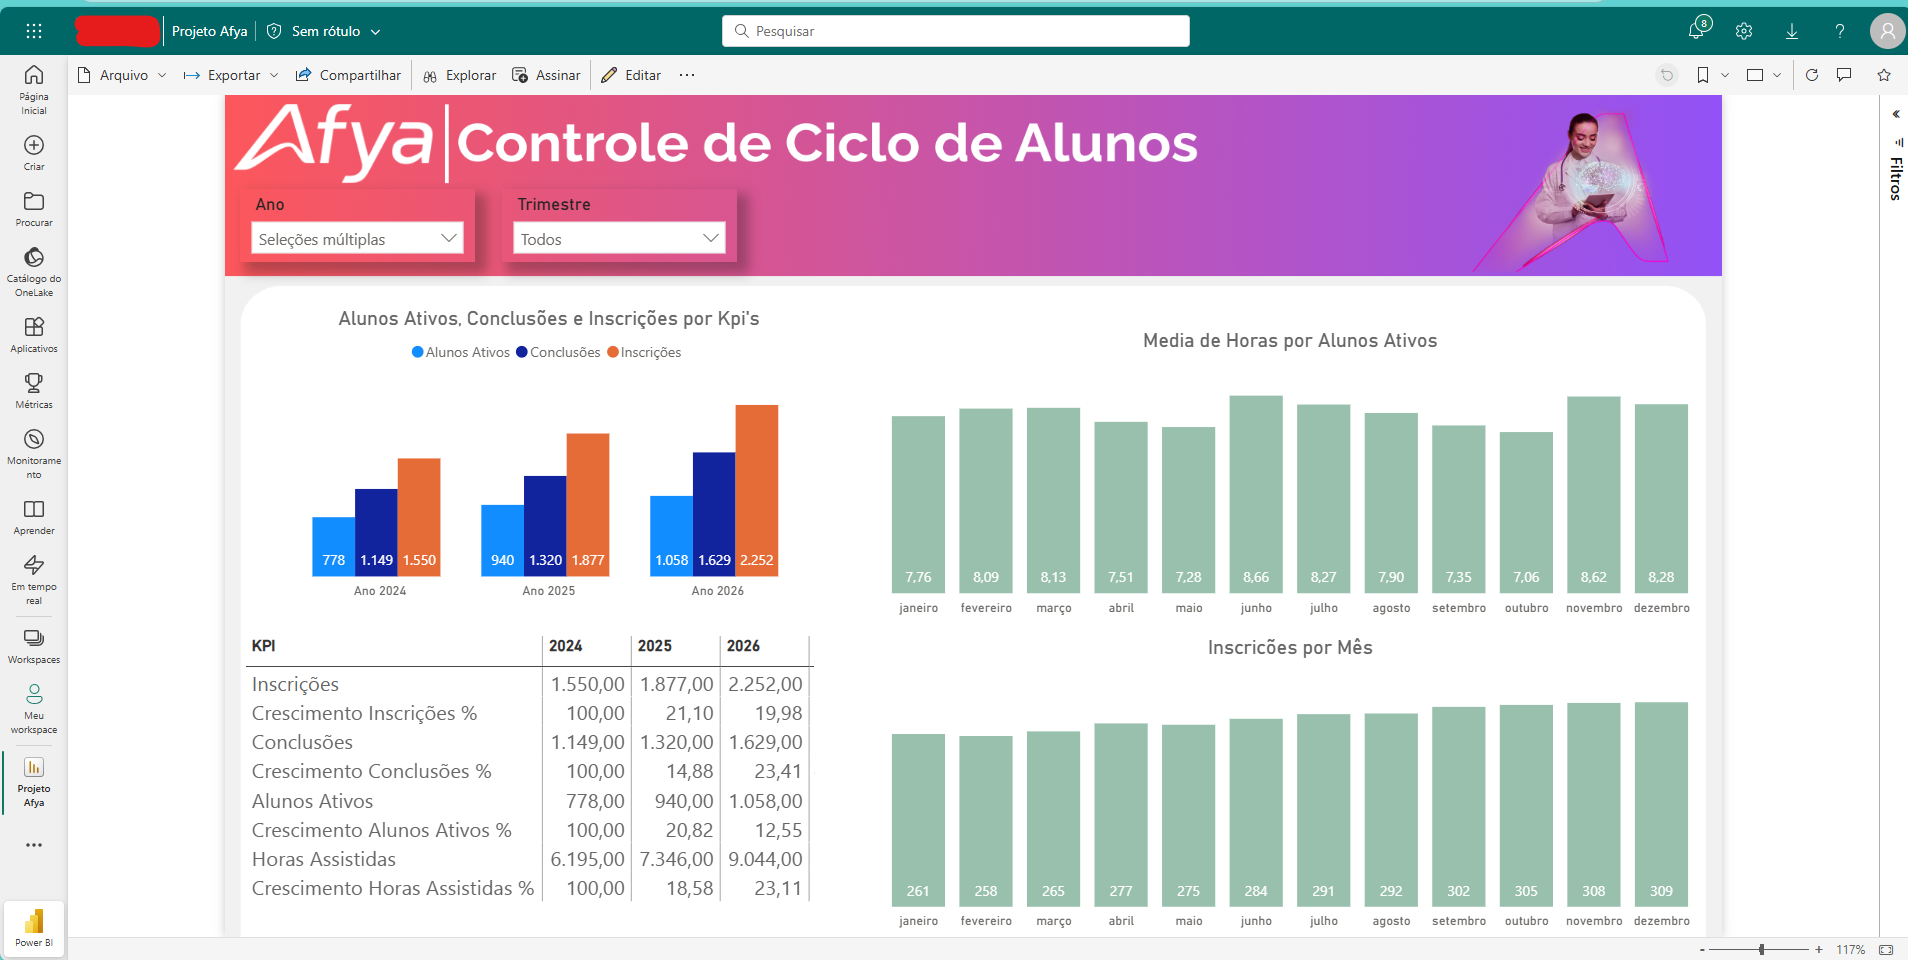

The dashboard page shown, as its layout file describes it:
{"tool":"powerbi","page":{"name":"Página 1","canvas":[1280,720],"ordinal":0},"visuals":[{"type":"clusteredColumnChart","title":"Media de Horas por Alunos Ativos","fields":{"Category":["Dim - Calendario.Date.Variation.Hierarquia de datas.Mês"],"Y":["_MEDIDAS.Taxa_Horas_Aluno"]},"box":[542.2,190,737.8,262.2],"z":0},{"type":"slicer","fields":{"Values":["Dim - Calendario.AnoTrim"]},"box":[236.7,80.7,201.3,62.1],"z":1000},{"type":"slicer","fields":{"Values":["Dim - Calendario.Ano"]},"box":[12.4,80.7,201.3,62.1],"z":2000},{"type":"lineClusteredColumnComboChart","fields":{"Category":["Tabelas_Kpis_Anual.Kpi's"],"Y":["Sum(Tabelas_Kpis_Anual.Alunos Ativos)","Sum(Tabelas_Kpis_Anual.Conclusções)","Sum(Tabelas_Kpis_Anual.Inscrições)"]},"box":[12.2,171.1,530,266.7],"z":5001},{"type":"clusteredColumnChart","title":"Inscricões por Mês","fields":{"Category":["Dim - Calendario.Date.Variation.Hierarquia de datas.Mês"],"Y":["_MEDIDAS.qtd_inscricoes"]},"box":[542.2,452.2,737.8,267.8],"z":5002},{"type":"tableEx","fields":{"Values":["Tabelas_Kpis_Anual_Final.KPI","Sum(Tabelas_Kpis_Anual_Final.2024)","Sum(Tabelas_Kpis_Anual_Final.2025)","Sum(Tabelas_Kpis_Anual_Final.2026)","Sum(Tabelas_Kpis_Anual_Final.Ordem)"]},"box":[12.2,452.2,530,267.8],"z":5003}]}

Visuals, with their boxes on the page's 1280x720 design canvas (x1, y1, x2, y2). These are canvas units, not pixel positions in the 1908x960 screenshot, which may show the page scaled, cropped or inside an application window:
"Media de Horas por Alunos Ativos" clusteredColumnChart: rect(542, 190, 1280, 452)
slicer - Dim - Calendario.AnoTrim: rect(237, 81, 438, 143)
slicer - Dim - Calendario.Ano: rect(12, 81, 214, 143)
lineClusteredColumnComboChart - Tabelas_Kpis_Anual.Kpi's x Sum(Tabelas_Kpis_Anual.Alunos Ativos): rect(12, 171, 542, 438)
"Inscricões por Mês" clusteredColumnChart: rect(542, 452, 1280, 720)
tableEx - Tabelas_Kpis_Anual_Final.KPI x Sum(Tabelas_Kpis_Anual_Final.2024): rect(12, 452, 542, 720)
